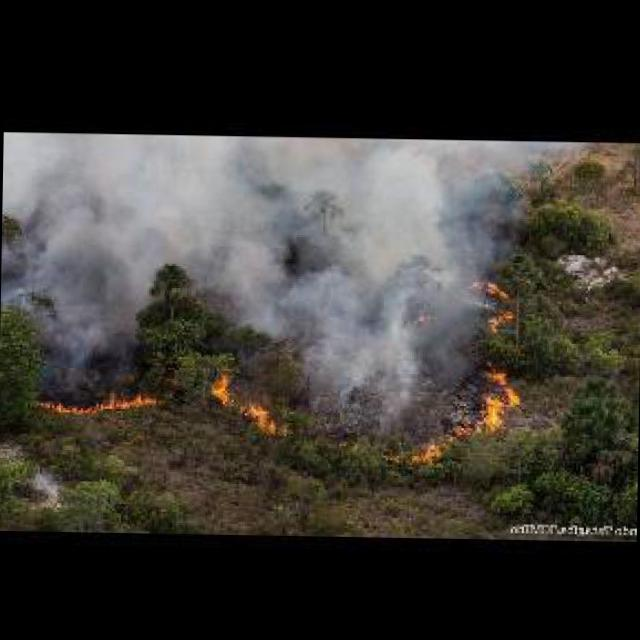fire: (387, 376, 517, 471), (211, 382, 291, 438), (34, 385, 160, 418), (472, 277, 506, 298), (483, 312, 516, 333)
smoke: (0, 125, 525, 402)
